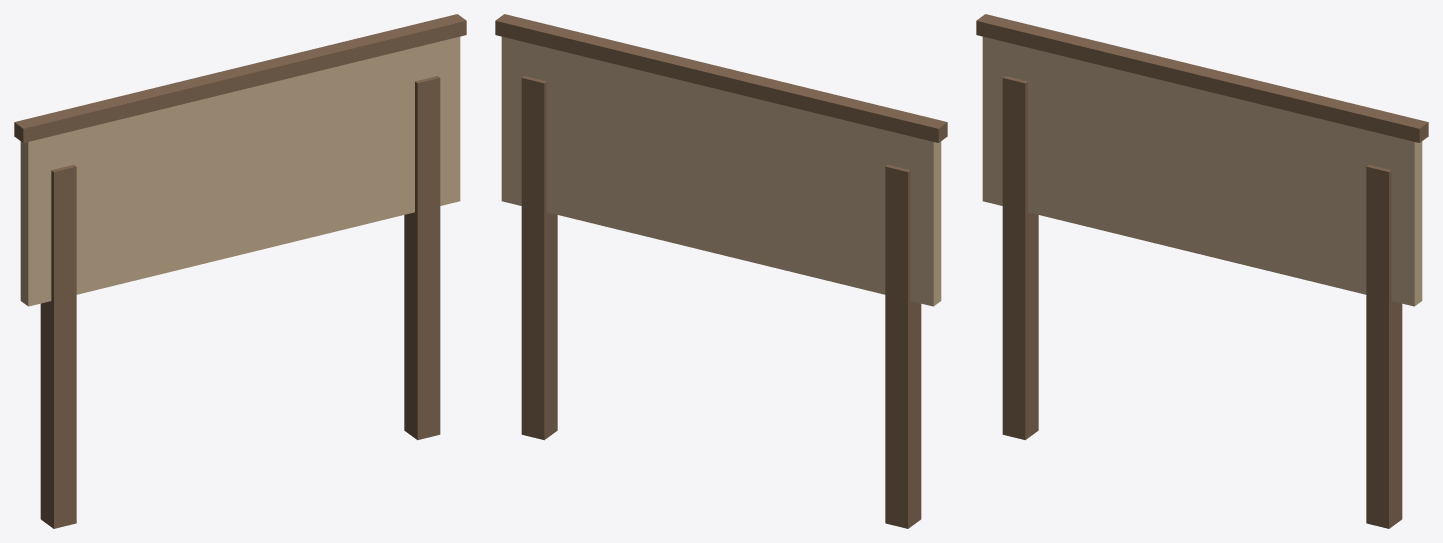
The model's file is sign_region.glb.
3 renders of one model, left to right at view 1: azimuth 30°, elevation 25°; view 2: azimuth 150°, elevation 25°; view 3: azimuth 330°, elevation 25°, orthographic.
Parts seen in each view (by area): view 1: sign_region; view 2: sign_region; view 3: sign_region.
Boxes of the visible parts, x1,y1,x2,y2 form: sign_region: (14, 14, 466, 528); sign_region: (495, 14, 947, 528); sign_region: (976, 14, 1428, 528).
Bounding box in the file's own units: 3.9 × 3.41 × 0.2.
